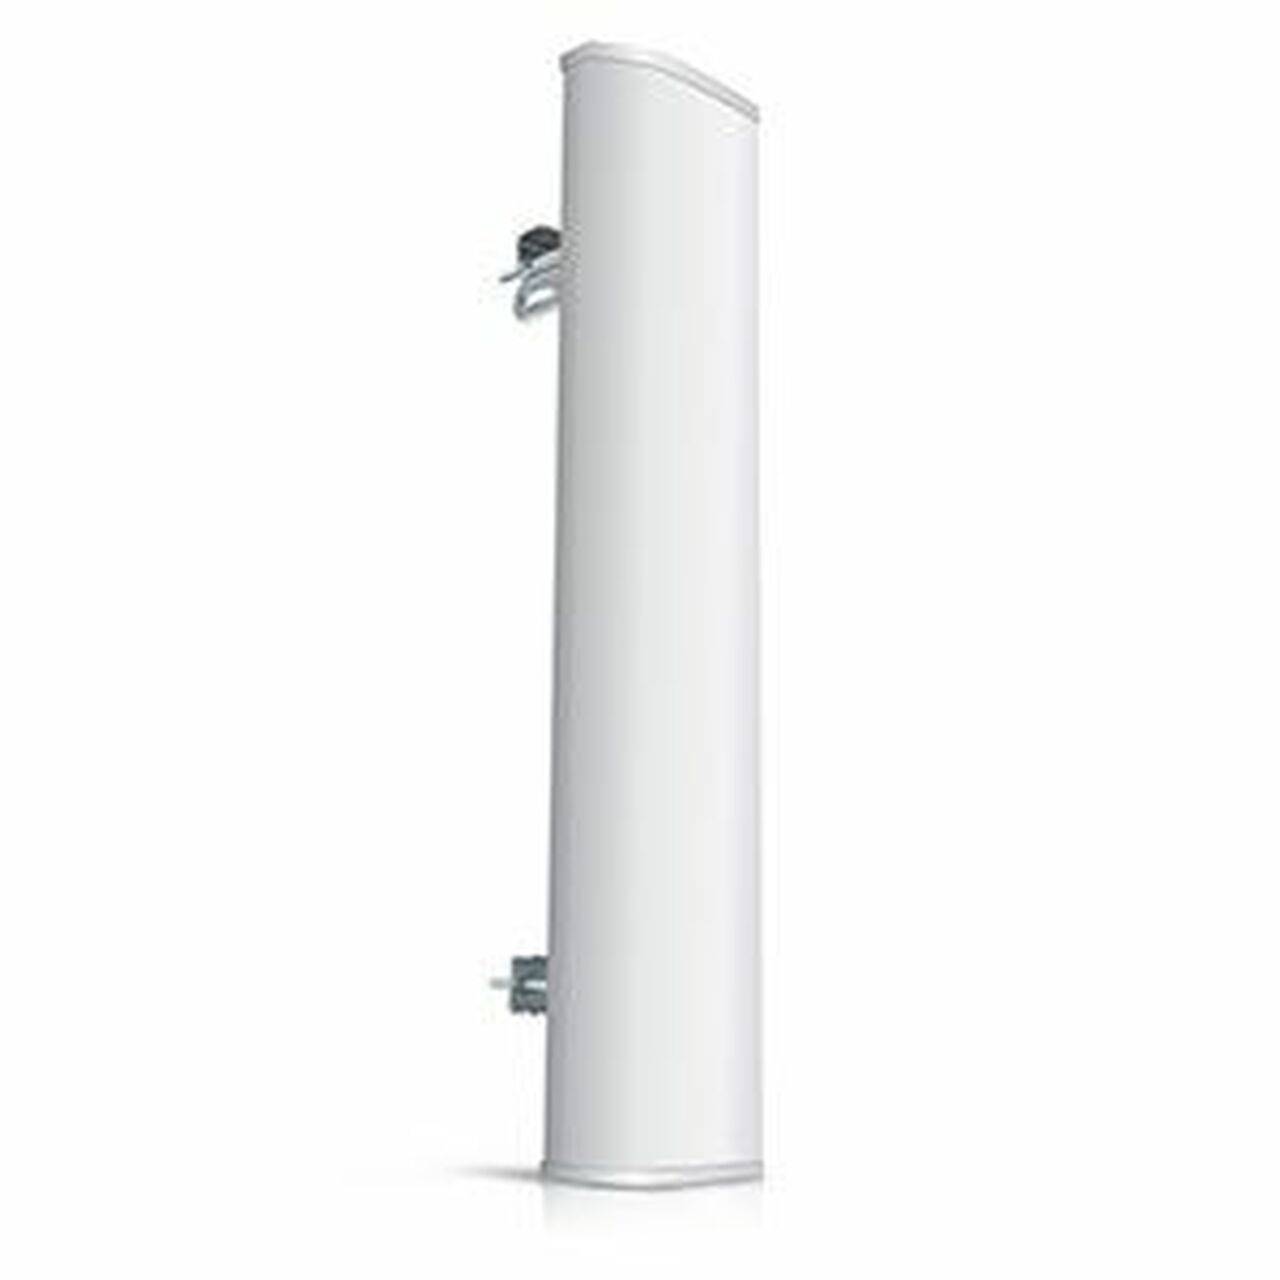sa: (516, 36, 801, 1212)
